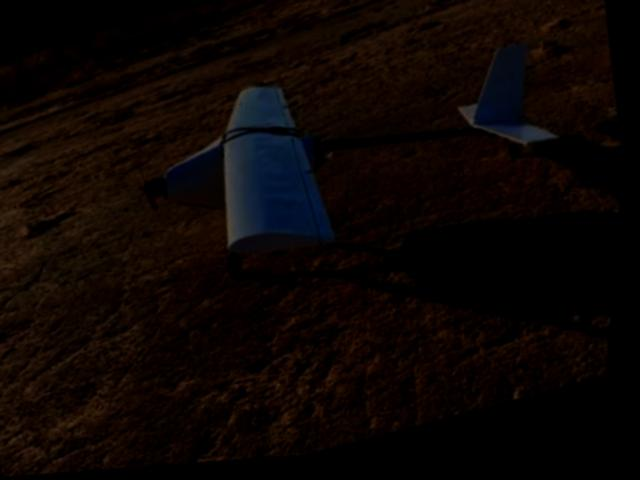uav: (123, 10, 583, 296)
